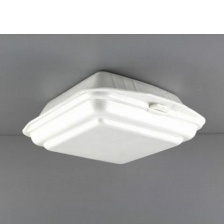foam_box: (18, 67, 208, 168)
